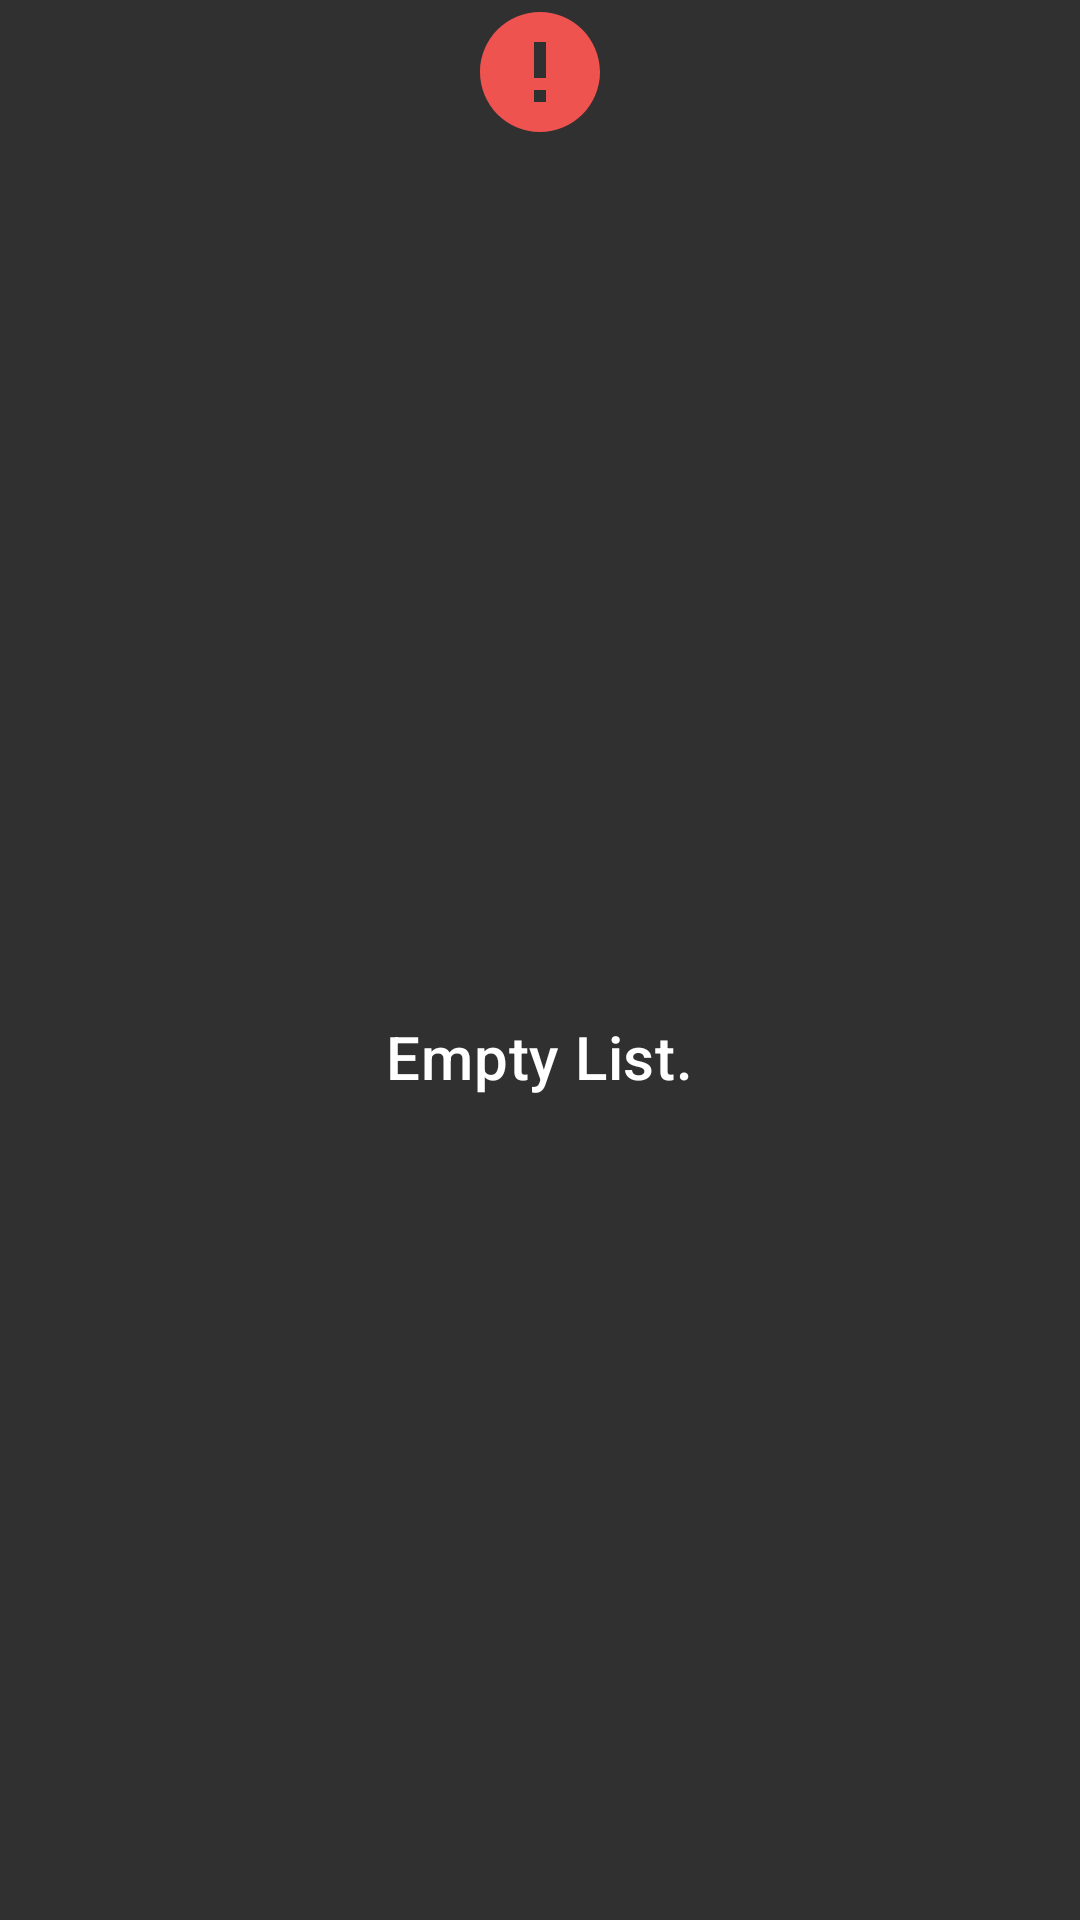

Named icons in this screenshot (1080px×1920px) and their bounding boxes, (x1, y1, x2, y2):
error: (480, 12, 600, 132)
